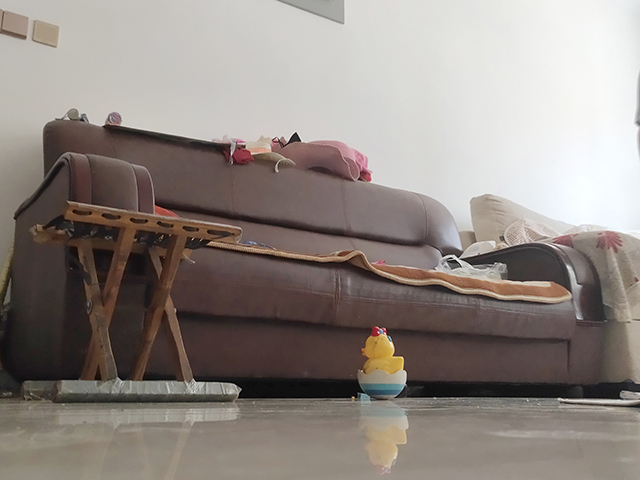carpet: (555, 397, 640, 409)
sofa: (3, 117, 586, 402)
stool: (17, 198, 244, 404)
